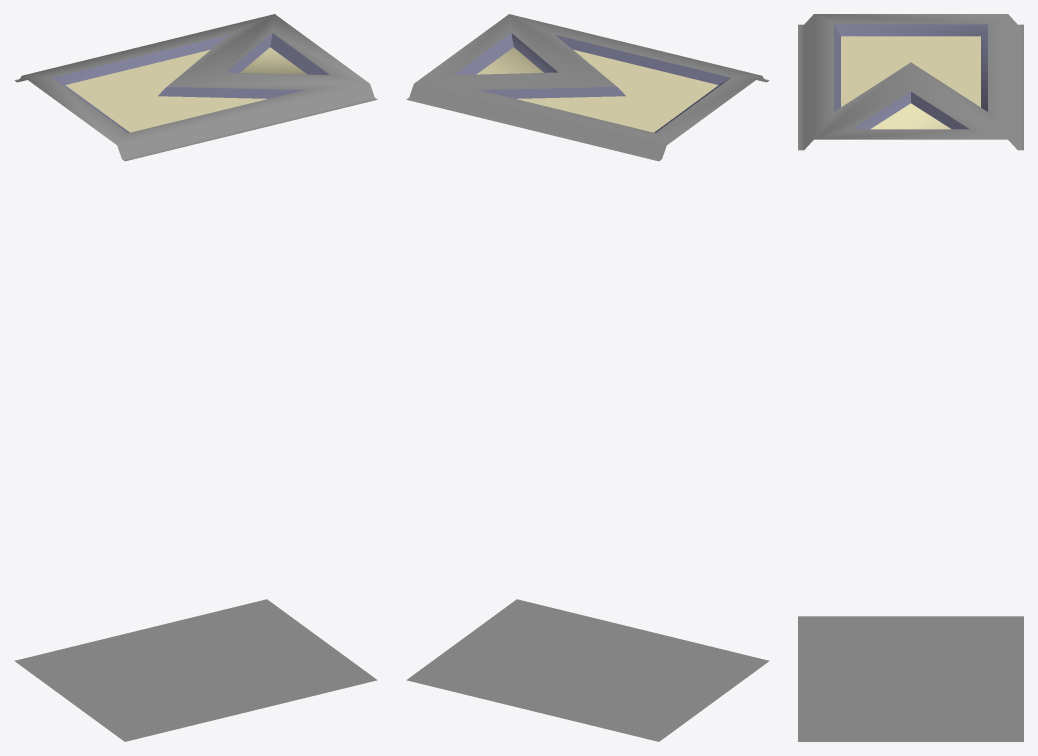
File: hangarCenter.fbx
3 renders of one model, left to right at view 1: azimuth 30°, elevation 25°; view 2: azimuth 150°, elevation 25°; view 3: azimuth 270°, elevation 25°, orthographic.
Visible parts, largest first — view 1: Cube.010; view 2: Cube.010; view 3: Cube.010.
Boxes of the visible parts, x1,y1,x2,y2 form: Cube.010: (14, 14, 377, 741); Cube.010: (406, 14, 769, 741); Cube.010: (798, 14, 1023, 741).
Size of the model in its own units: 538 by 1200 by 408.
